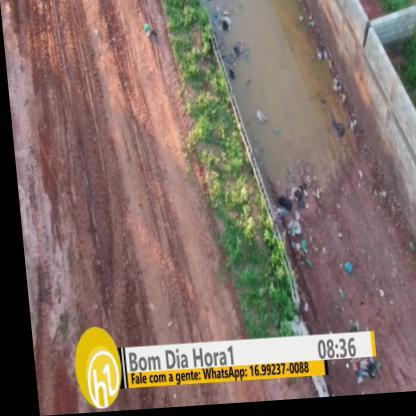agua: (233, 0, 335, 173)
